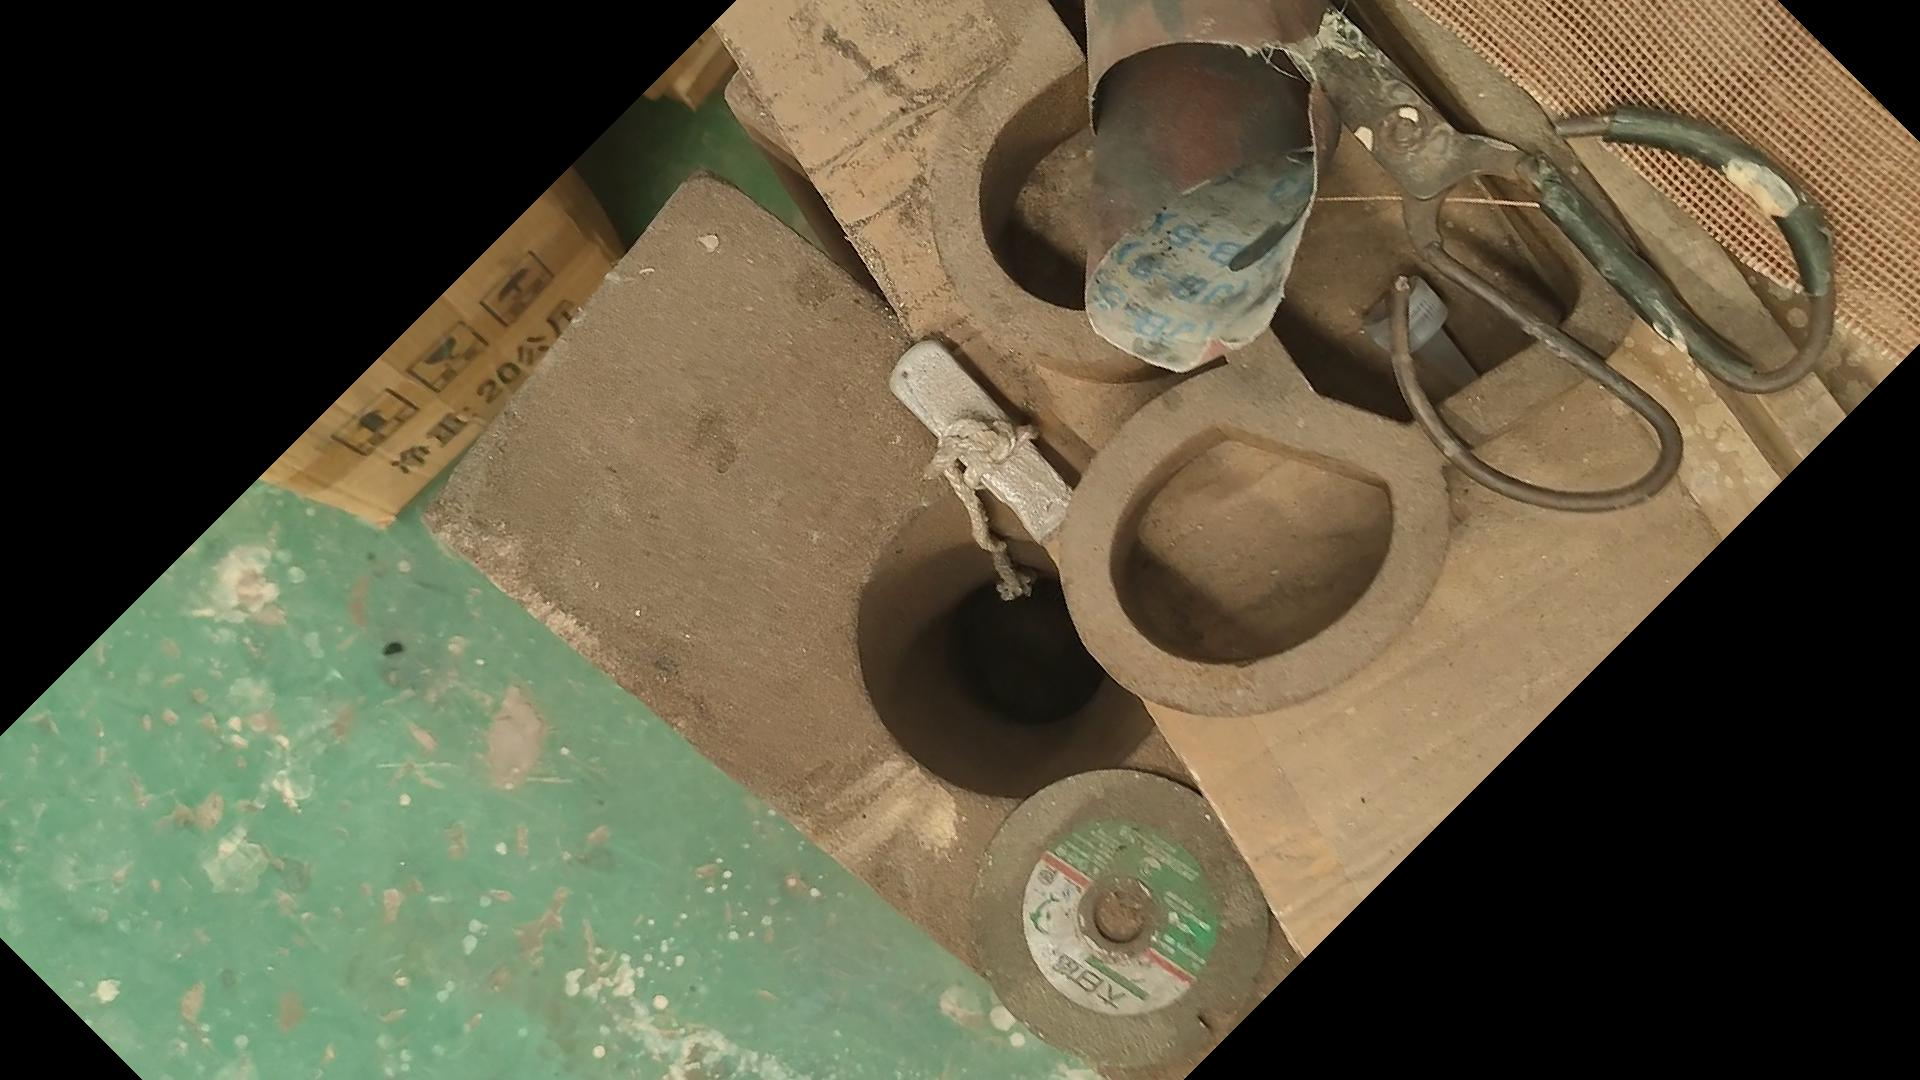pouring hole: (857, 465, 1178, 798)
